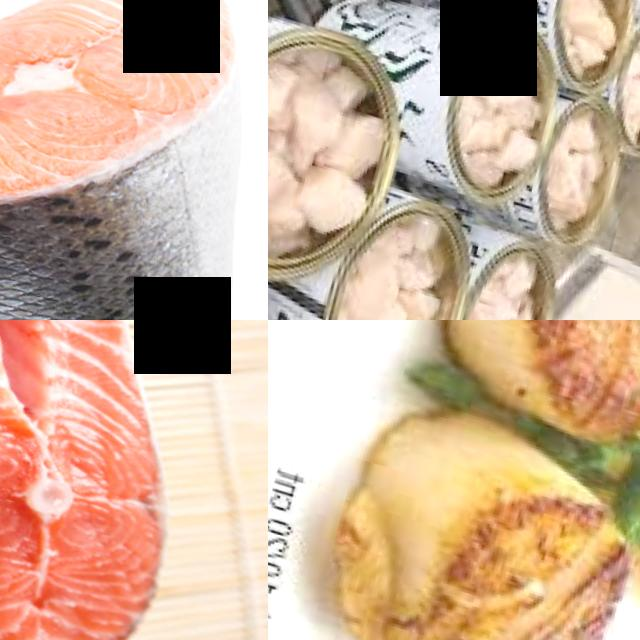salmon: (0, 0, 268, 320), (0, 360, 191, 640)
sea scallops: (318, 400, 625, 640), (426, 320, 640, 450), (299, 154, 382, 237), (335, 95, 395, 172), (499, 115, 545, 170)
